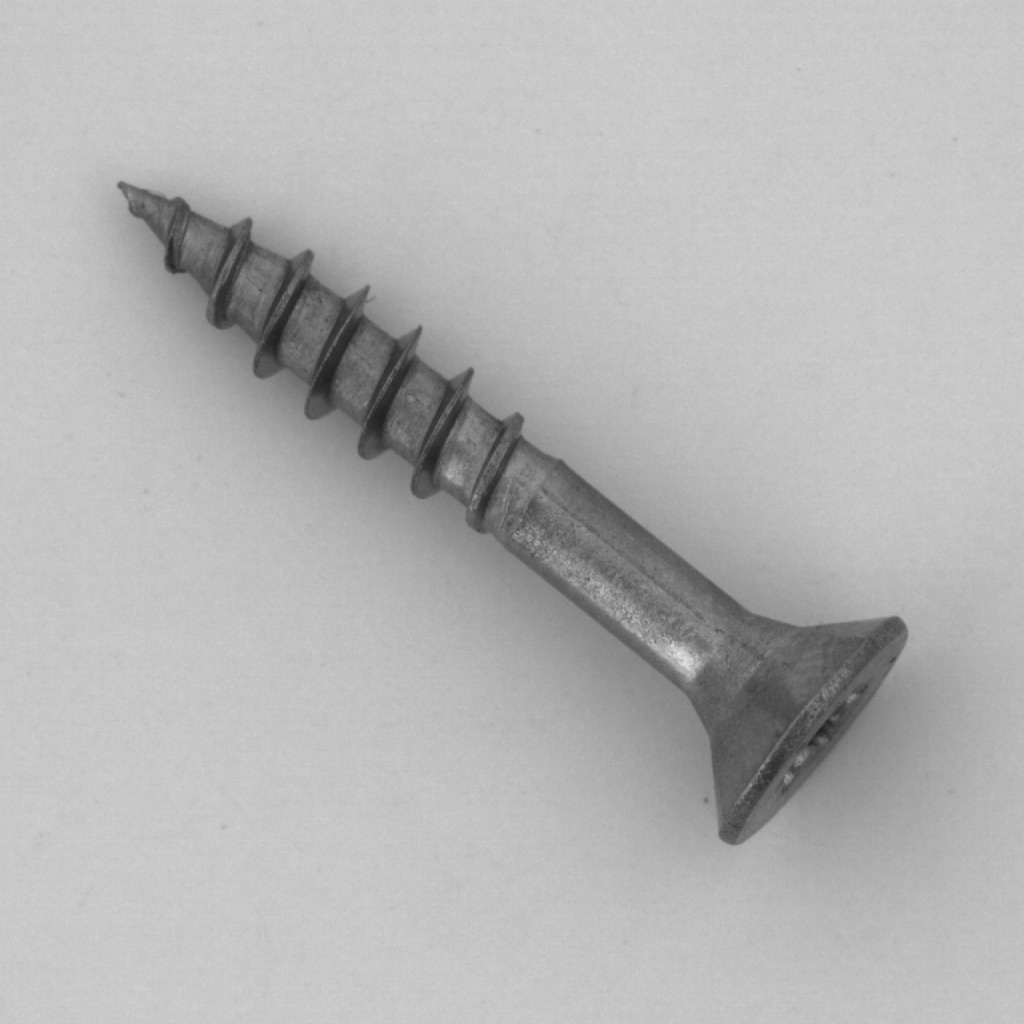good: (96, 154, 924, 866)
